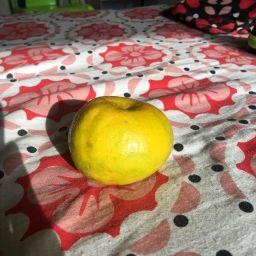Ripe: (67, 98, 171, 189)
